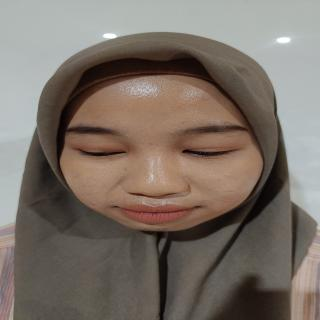Sedih: (50, 63, 281, 236)
